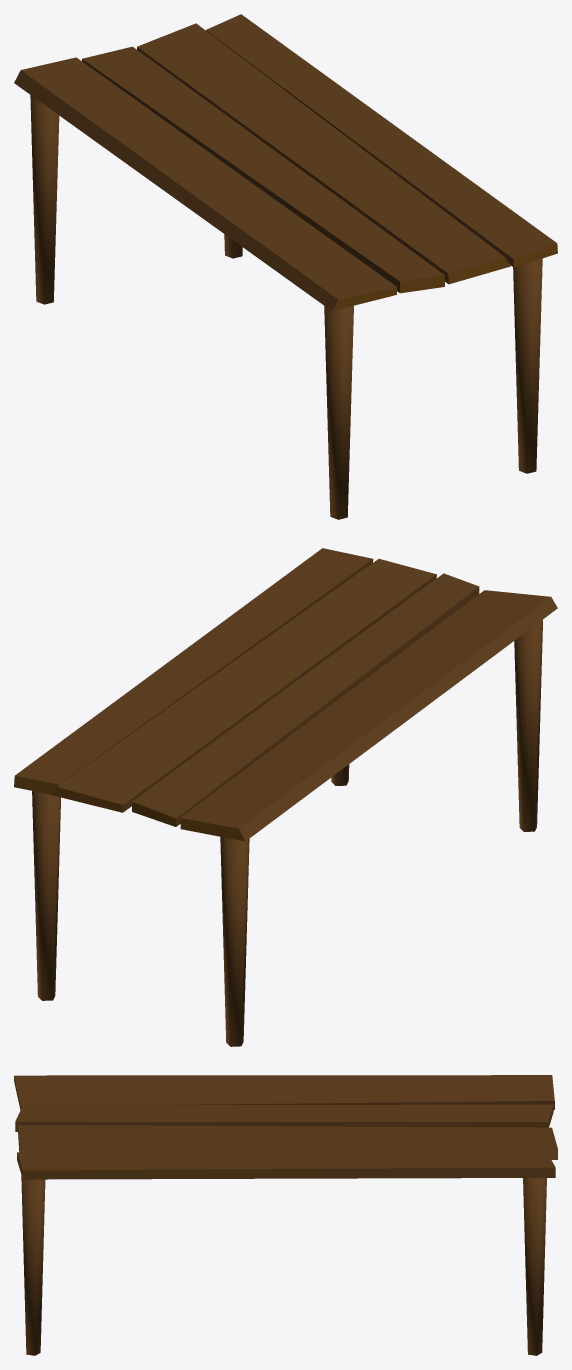
The model's file is Table.glb.
3 views of the same model, one above another, from view 1: azimuth 30°, elevation 25°; view 2: azimuth 150°, elevation 25°; view 3: azimuth 270°, elevation 25° (orthographic). The views are drawn at different scales.
Visible parts, largest first — view 1: Cube.003, Cube.001, Cube, Cube.002, Cylinder.006, Cylinder.004, Cylinder.005; view 2: Cube.003, Cube.001, Cube, Cube.002, Cylinder.005, Cylinder.003, Cylinder.006; view 3: Cube.003, Cube.001, Cube.002, Cube, Cylinder.003, Cylinder.004.
Part boxes in pixels (bbox=[...]): Cube.003: bbox=[14, 57, 396, 310]; Cube.001: bbox=[137, 23, 510, 284]; Cube: bbox=[82, 46, 444, 293]; Cube.002: bbox=[206, 14, 557, 267]; Cylinder.006: bbox=[324, 305, 353, 519]; Cylinder.004: bbox=[513, 258, 542, 473]; Cylinder.005: bbox=[30, 95, 59, 304]; Cube.003: bbox=[180, 590, 557, 841]; Cube.001: bbox=[50, 559, 436, 812]; Cube: bbox=[132, 573, 479, 826]; Cube.002: bbox=[14, 548, 373, 794]; Cylinder.005: bbox=[220, 837, 249, 1046]; Cylinder.003: bbox=[32, 791, 60, 1000]; Cylinder.006: bbox=[514, 620, 542, 831]; Cube.003: bbox=[14, 1075, 554, 1109]; Cube.001: bbox=[18, 1124, 557, 1159]; Cube.002: bbox=[17, 1152, 555, 1179]; Cube: bbox=[15, 1104, 553, 1131]; Cylinder.003: bbox=[523, 1178, 546, 1355]; Cylinder.004: bbox=[21, 1175, 45, 1355].
Bounding box in the file's own units: 0.849 × 0.7886 × 2.01.
